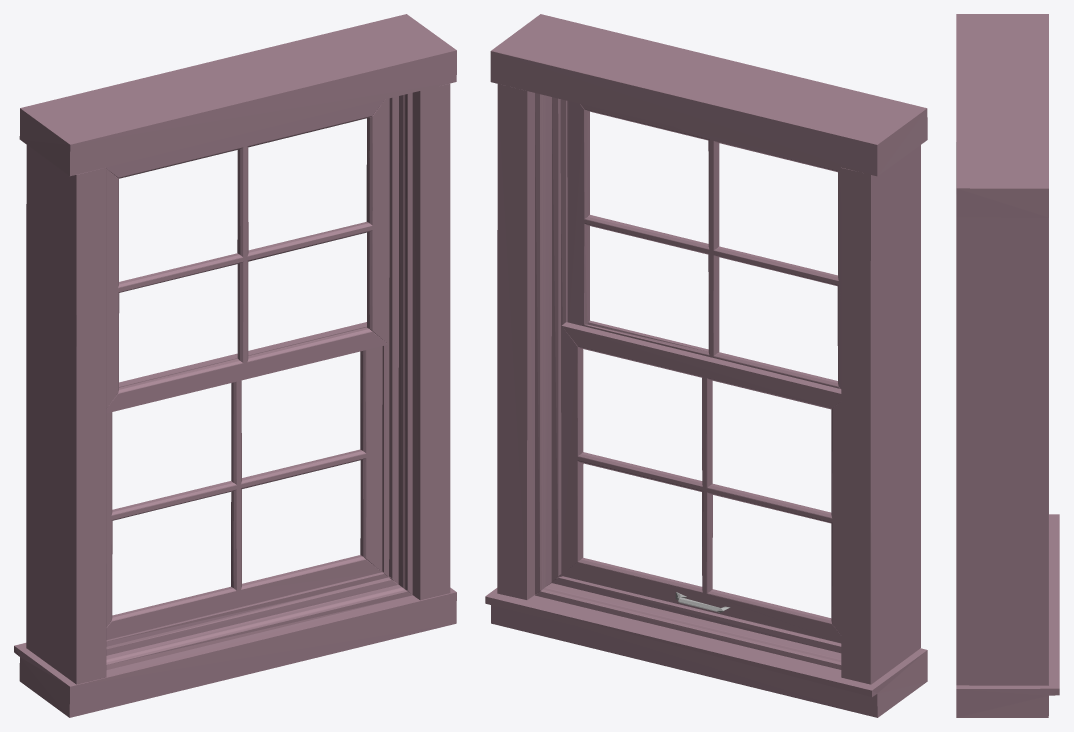
The model's file is SM_BigHouse_Window_A_3.fbx.
3 views of the same model, side by side, from view 1: azimuth 30°, elevation 25°; view 2: azimuth 150°, elevation 25°; view 3: azimuth 270°, elevation 25° (orthographic). The views are drawn at different scales.
Visible parts, largest first — view 1: SM_BigHouse_Window_A_3; view 2: SM_BigHouse_Window_A_3; view 3: SM_BigHouse_Window_A_3.
Part boxes in pixels (x1,y1,x2,y2): SM_BigHouse_Window_A_3: [14, 14, 456, 717]; SM_BigHouse_Window_A_3: [485, 14, 927, 717]; SM_BigHouse_Window_A_3: [956, 14, 1059, 717].
Size of the model in its own units: 116 by 29.07 by 164.
